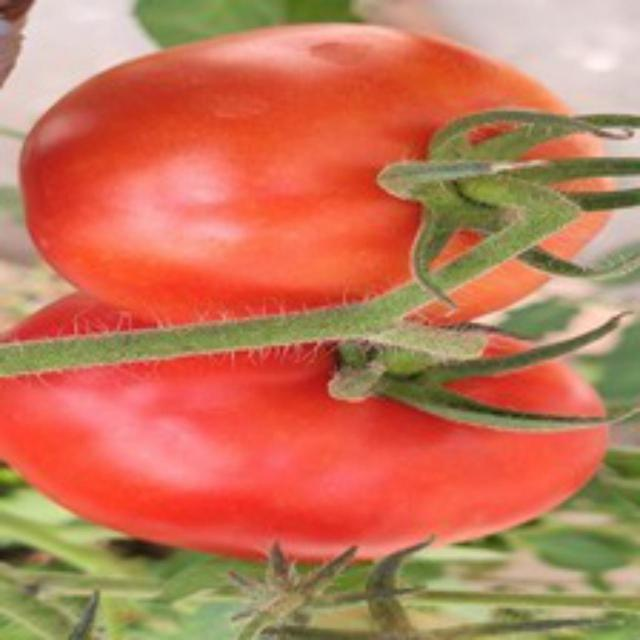tomato: (21, 17, 632, 336), (0, 283, 620, 554)
